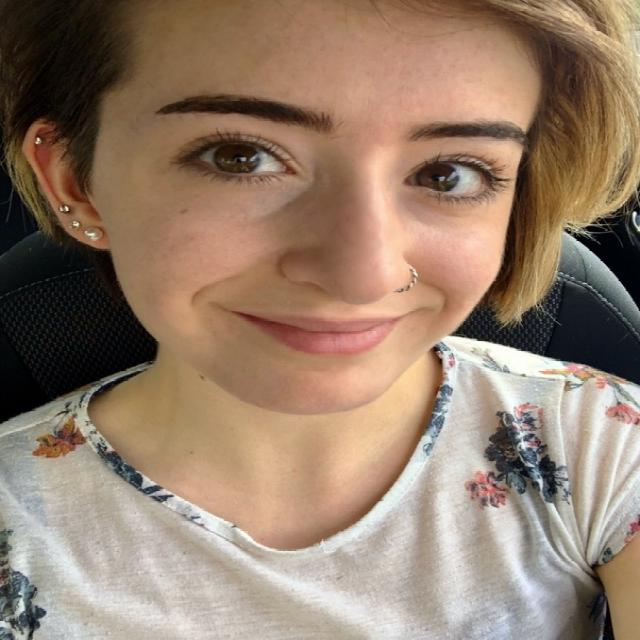earlobe: (65, 200, 109, 252)
eye: (188, 137, 296, 179), (402, 155, 498, 198)
nose: (298, 267, 414, 347)
wholeear: (20, 115, 109, 253)
